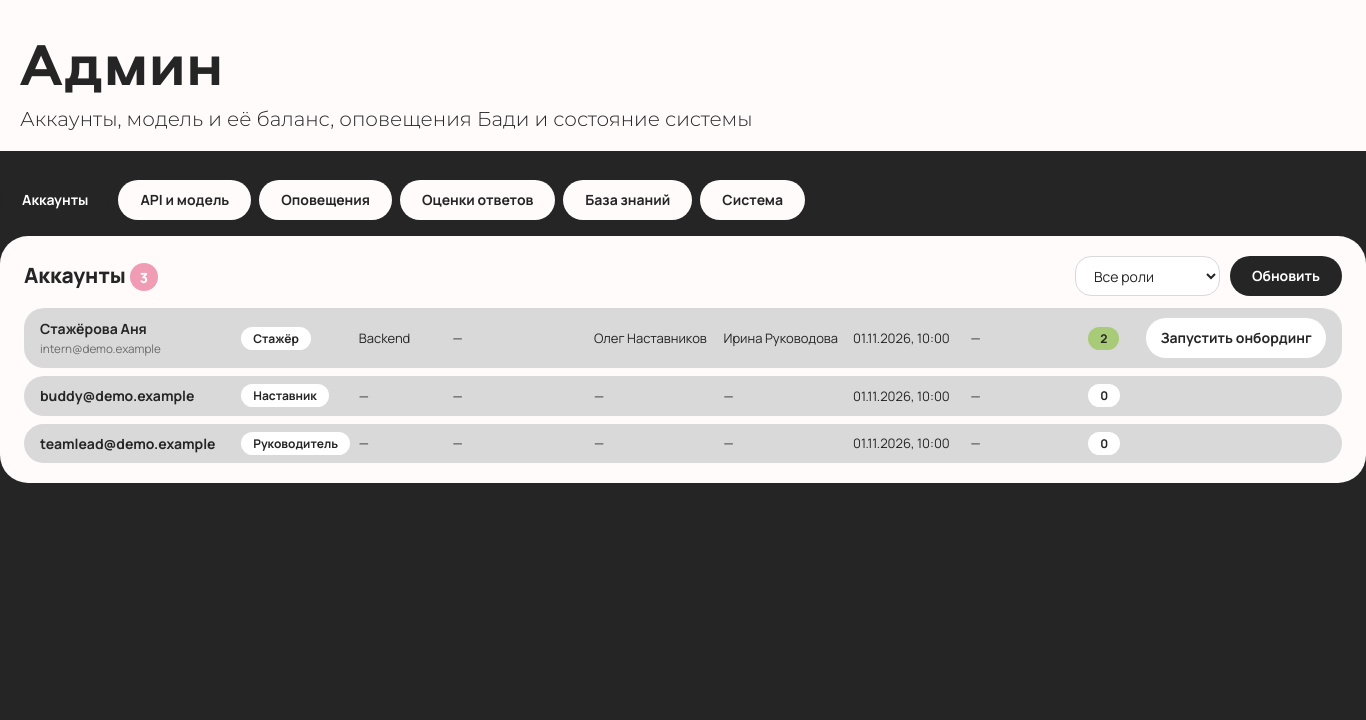
Test: админ-панель › оповещения: пример уходит в Бади с уникальным id, проверка воркера показывает результат
The width and height of the screenshot is (1366, 720).
Click the tab "Оповещения": (326, 200) [259, 180, 392, 220]
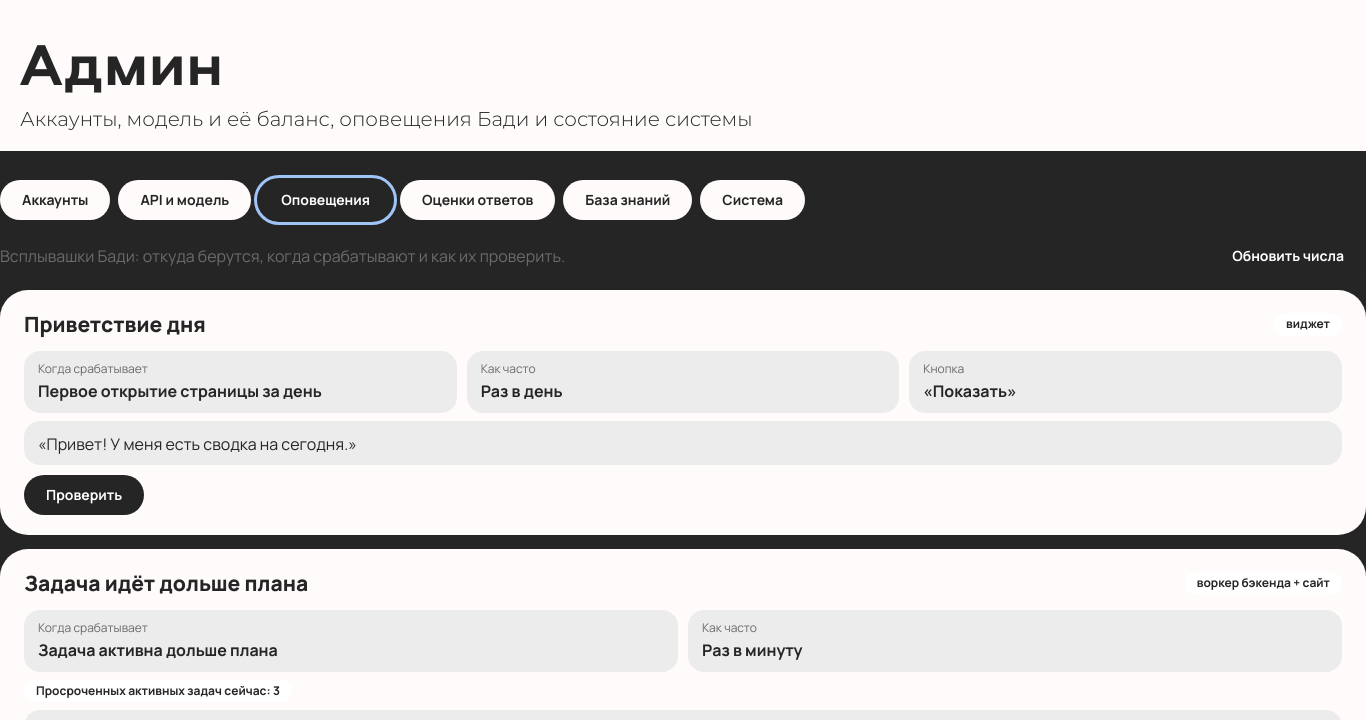
Click the button "Проверить": (84, 495) [24, 475, 144, 515]
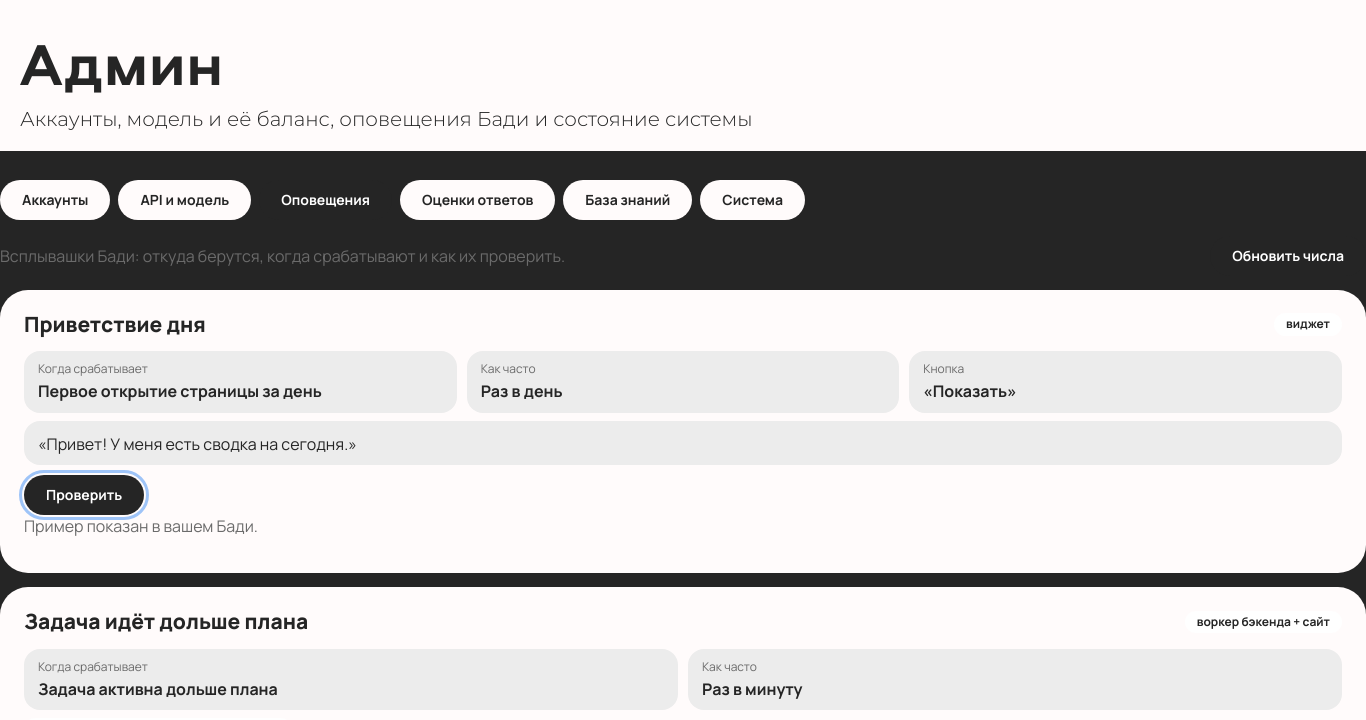
Click the button "Проверить": (84, 495) [24, 475, 144, 515]
(page scrolled)
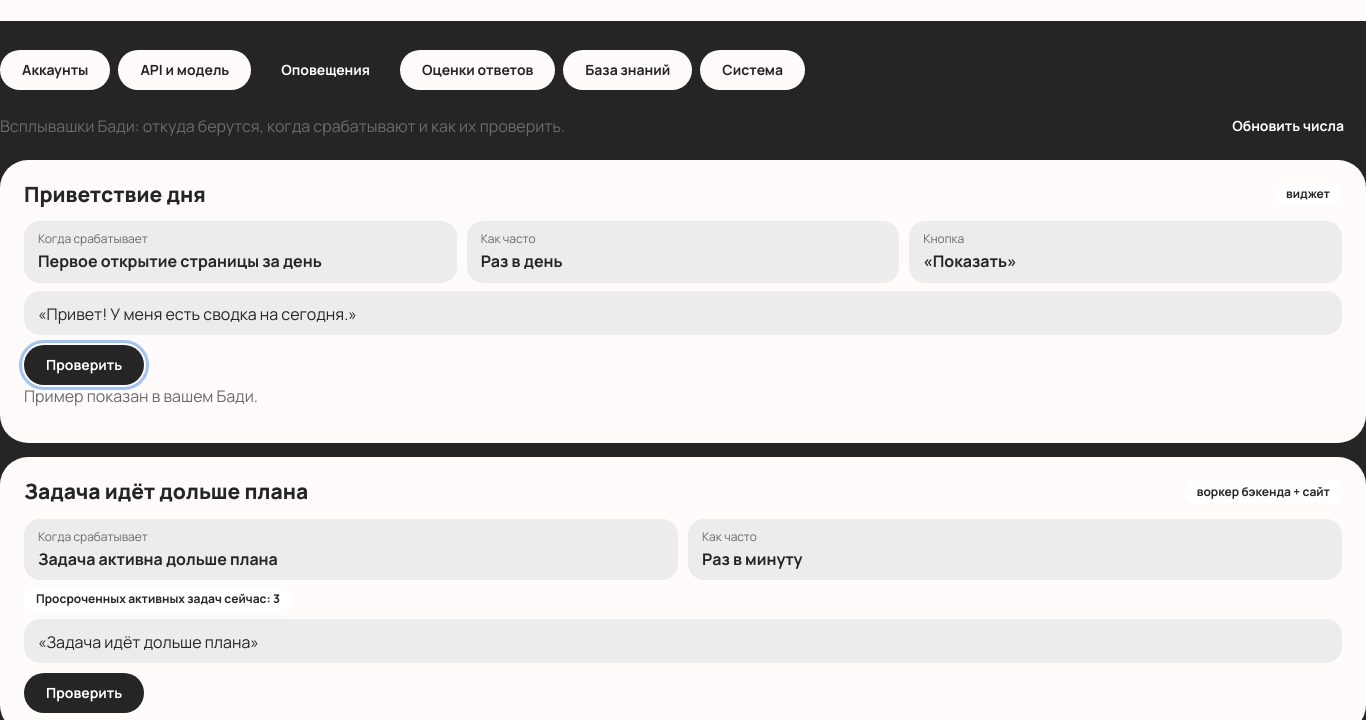
Expected: the text "Просроченных активных задач сейчас: 3" is shown, [24, 588, 292, 611]
Click the button "Проверить" below "Просроченных активных задач сейчас": (84, 693) [24, 673, 144, 713]
(page scrolled)
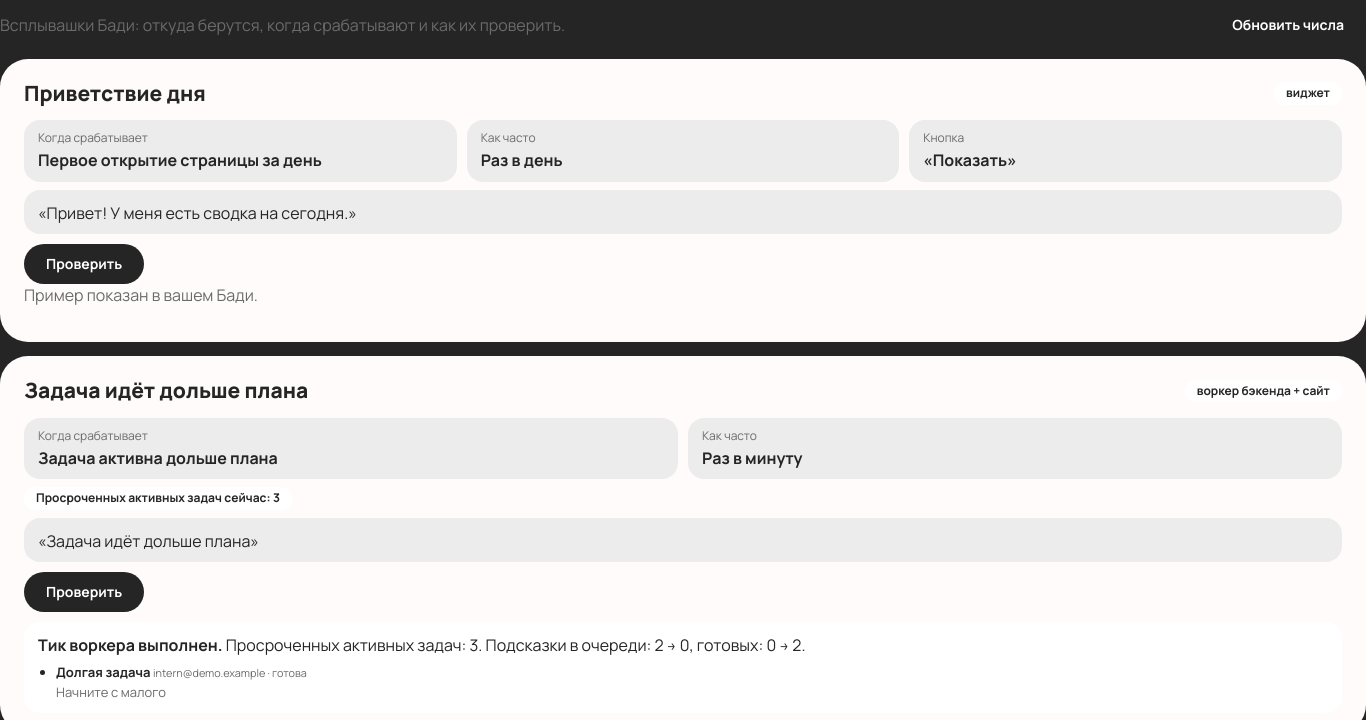
Expected: the text "Тик воркера выполнен." is shown, [38, 634, 223, 656]
Expected: the text "Долгая задача" is shown, [56, 662, 150, 680]
Expected: the text "Начните с малого" is shown, [56, 683, 166, 701]
